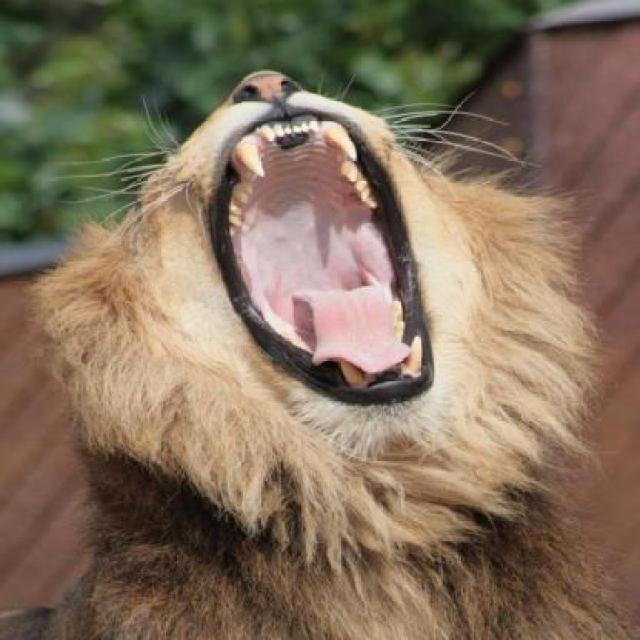Lion: (14, 61, 617, 638)
